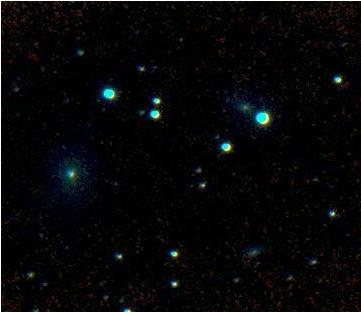star: (87, 95, 117, 125)
